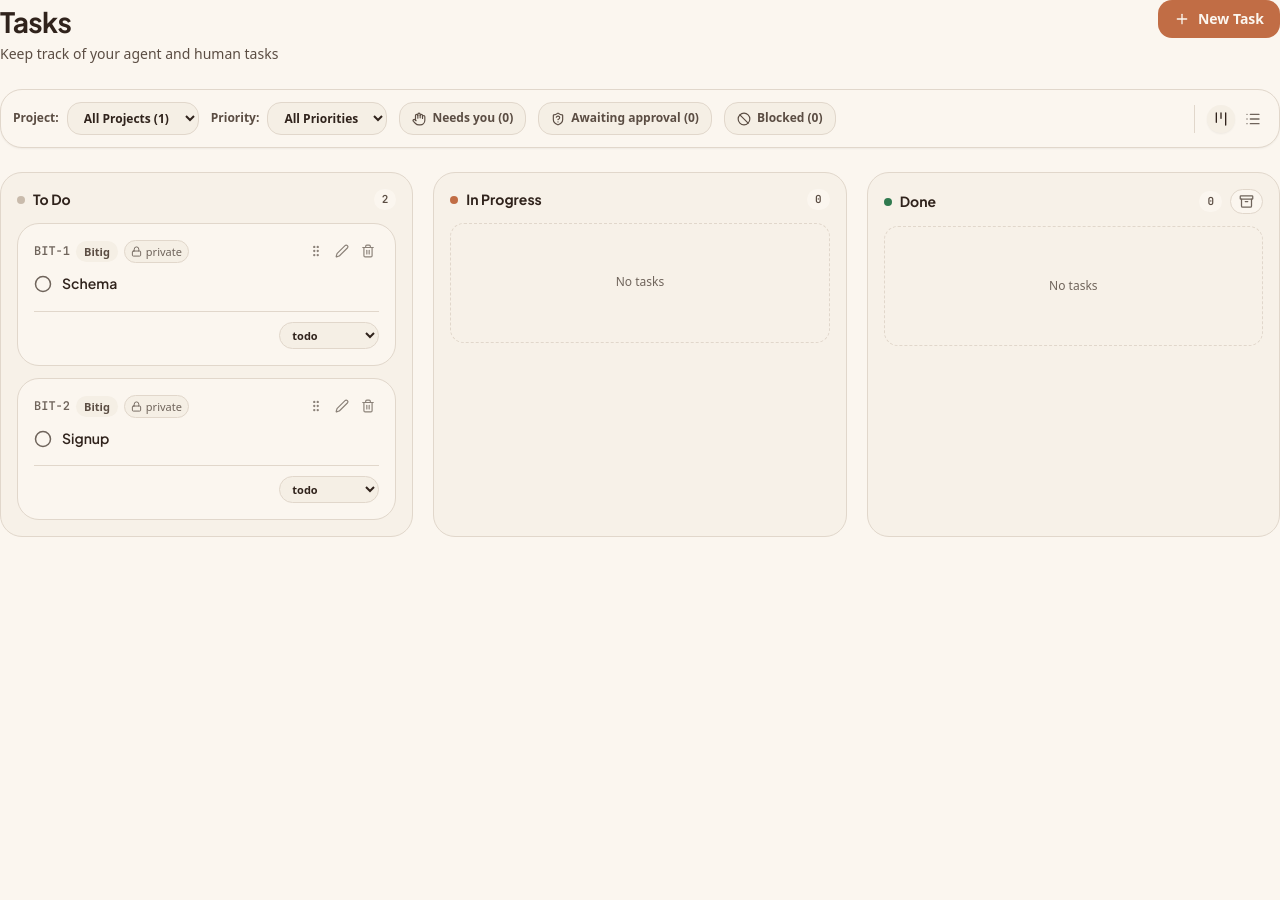
Scenario: dependencies in the web app › refuses to create a task already started behind an unfinished dependency
This screenshot has width=1280, height=900.
Check: the button "Signup" is shown, box [62,428,110,449]
Click the button "New Task". click: (1219, 19)
box: [1158,0,1279,38]
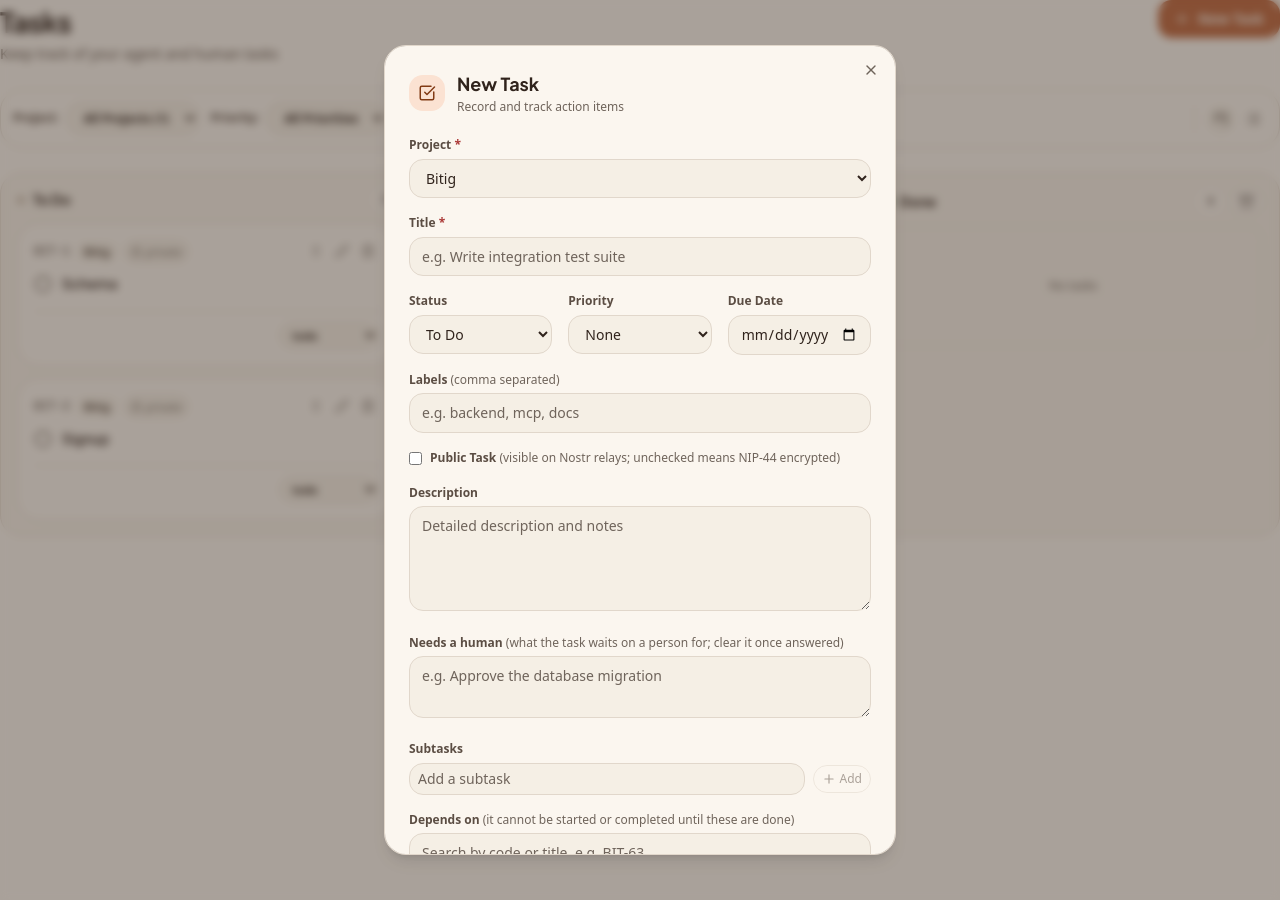
Type "Launch" into the field labelled "Title *". click: (640, 257)
box: [409,237,871,276]
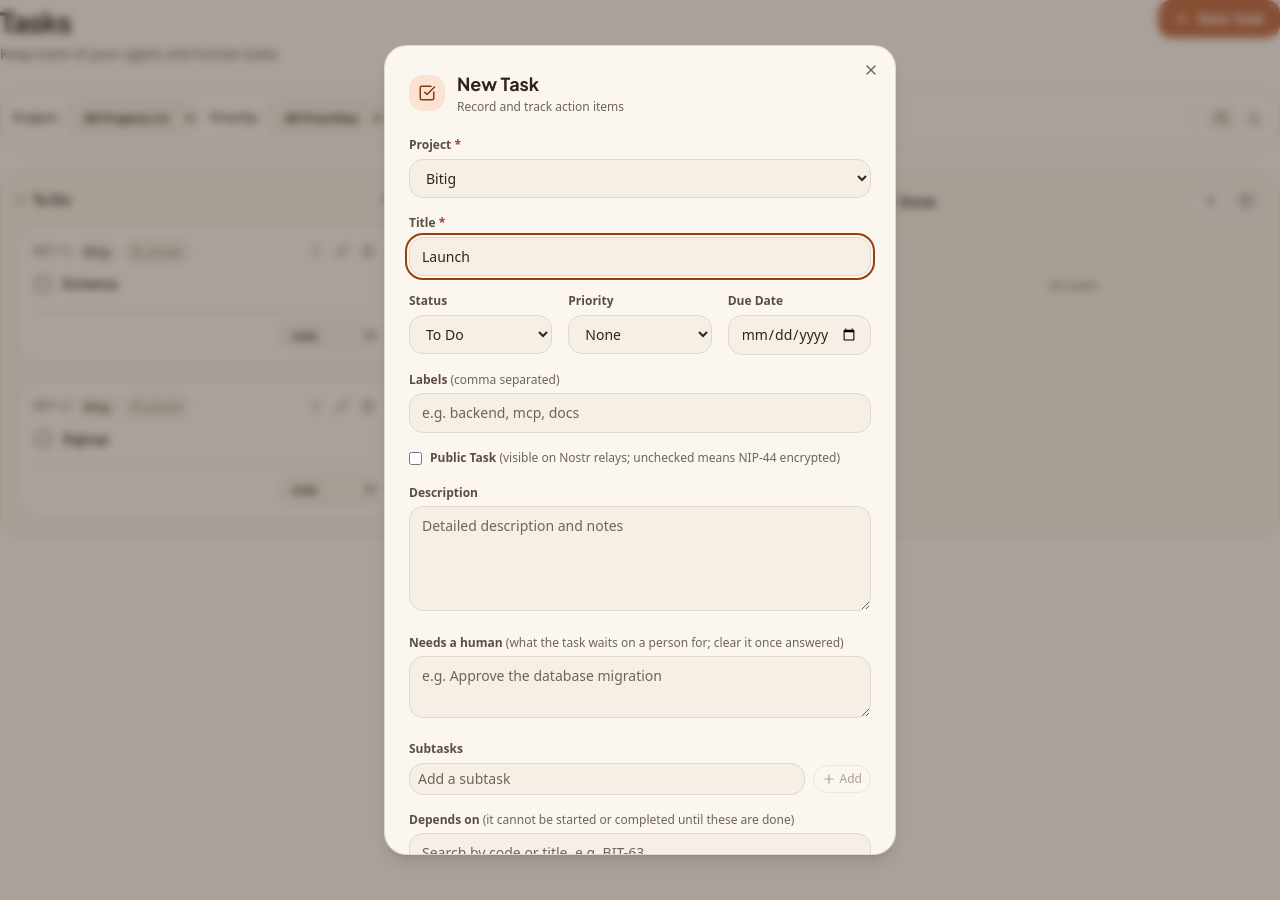
Select "In Progress" in the dropdown labelled "Status". click: (481, 334)
box: [409,315,552,354]
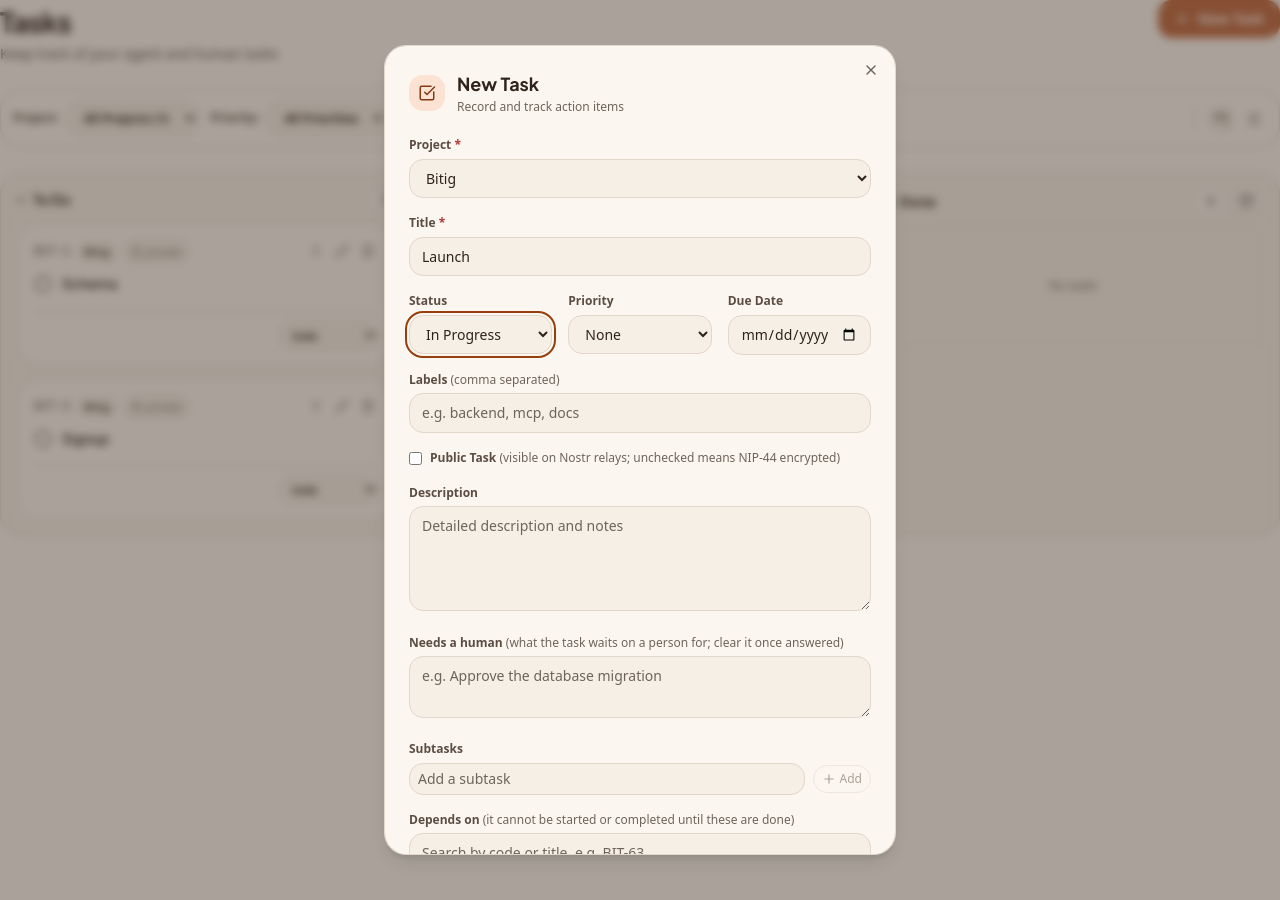
Type "BIT-1" into the search field named "Find a task to depend on". click: (640, 853)
box: [409,833,871,873]
Then press Enter
(page scrolled)
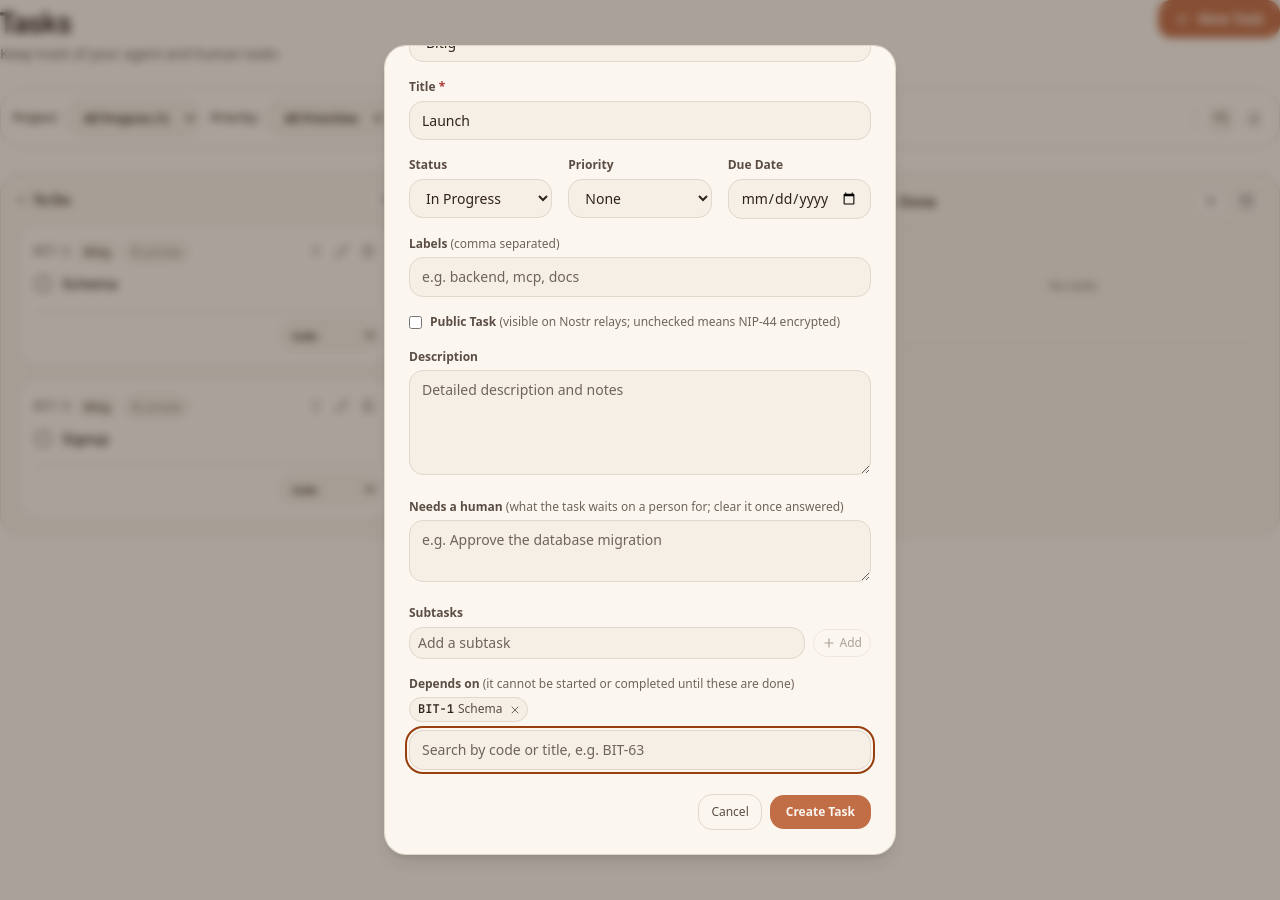
Click the button "Create Task". click: (820, 812)
box: [770,795,871,829]
(page scrolled)
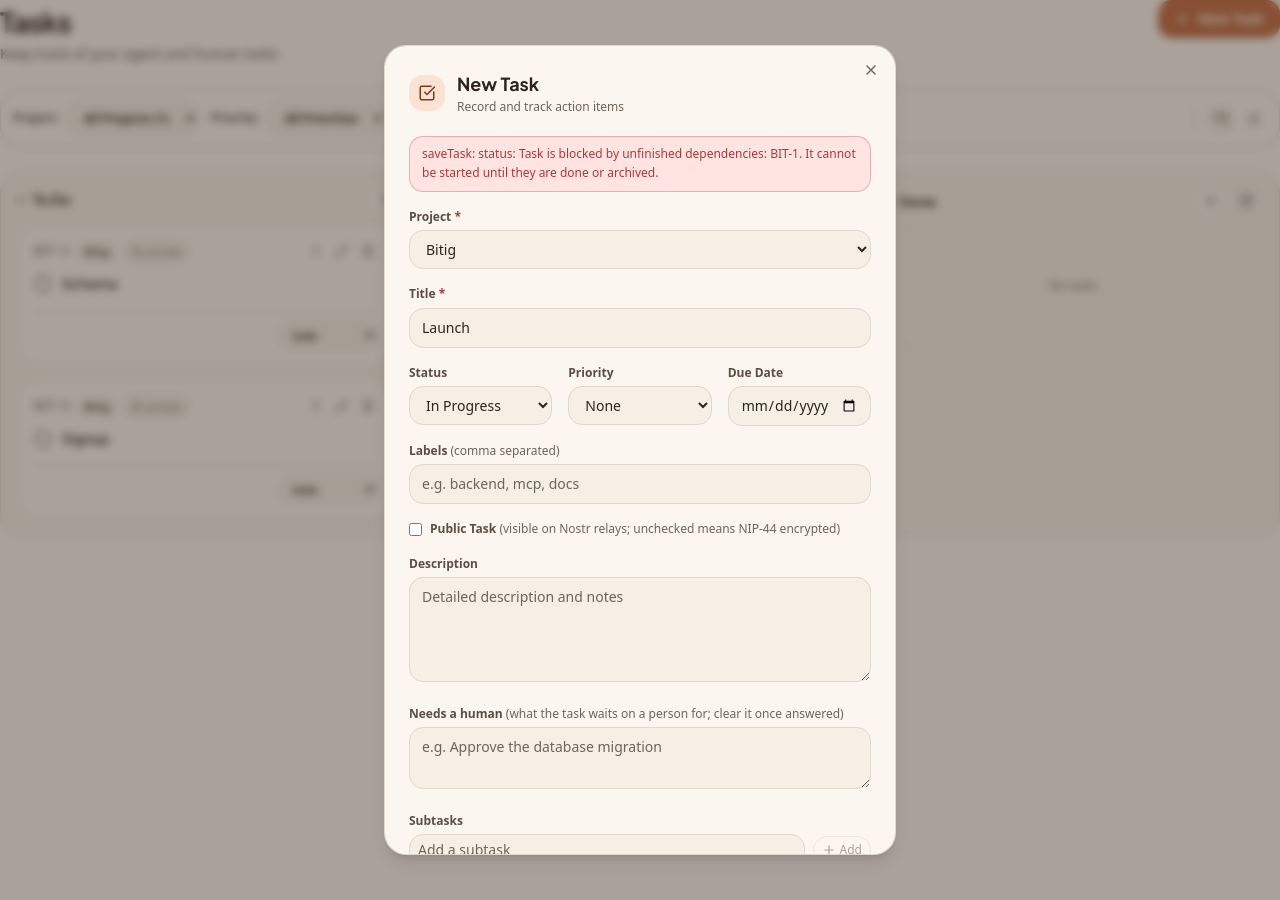
Check: the message shows "blocked by unfinished dependencies: BIT-1", box [422,146,856,181]
